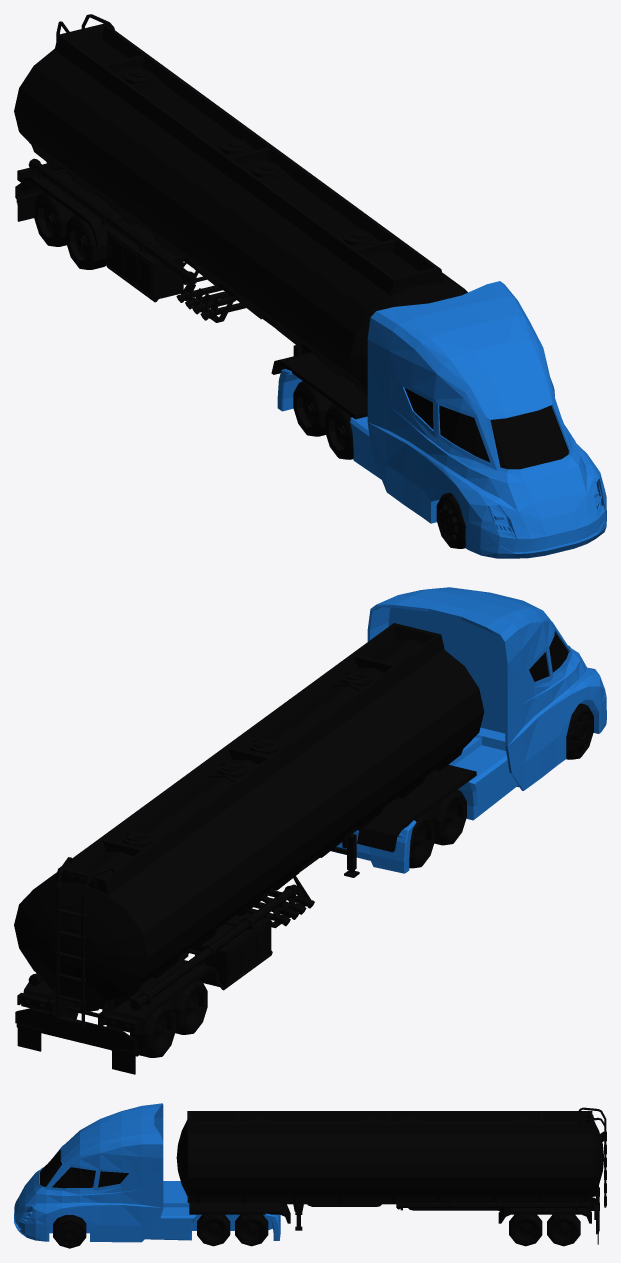
The model's file is HALF_fuel_truck.fbx.
The picture shows the model from 3 angles, top to bottom: view 1: azimuth 30°, elevation 25°; view 2: azimuth 150°, elevation 25°; view 3: azimuth 270°, elevation 25°; orthographic projection. The views are drawn at different scales.
Parts seen in each view (by area): view 1: Cube_1, Symmetry_4, Cylinder_2, Cylinder_1_2, Cylinder_1, Cylinder_2_2, Cylinder; view 2: Cube_1, Symmetry_4, Cylinder_1, Cylinder_2, Cylinder, Cylinder_2_2, Cylinder_1_2; view 3: Cube_1, Symmetry_4, Cylinder_3, Cylinder, Cylinder_1_2, Cylinder_2, Cylinder_1.
Boxes of the visible parts, <box> form: Cube_1: <box>14,14,467,419</box>; Symmetry_4: <box>277,281,606,558</box>; Cylinder_2: <box>66,214,107,269</box>; Cylinder_1_2: <box>293,381,333,436</box>; Cylinder_1: <box>34,191,74,246</box>; Cylinder_2_2: <box>436,492,465,548</box>; Cylinder: <box>325,404,353,459</box>; Cube_1: <box>14,623,484,1074</box>; Symmetry_4: <box>331,587,606,873</box>; Cylinder_1: <box>60,1002,176,1057</box>; Cylinder_2: <box>80,979,207,1034</box>; Cylinder: <box>426,790,466,845</box>; Cylinder_2_2: <box>566,703,593,759</box>; Cylinder_1_2: <box>409,813,435,868</box>; Cube_1: <box>176,1107,606,1244</box>; Symmetry_4: <box>14,1103,280,1242</box>; Cylinder_3: <box>53,1215,86,1248</box>; Cylinder: <box>197,1214,230,1246</box>; Cylinder_1_2: <box>235,1214,268,1246</box>; Cylinder_2: <box>509,1214,542,1246</box>; Cylinder_1: <box>547,1214,580,1246</box>.
Bounding box in the file's own units: 278 × 367 × 1692.
